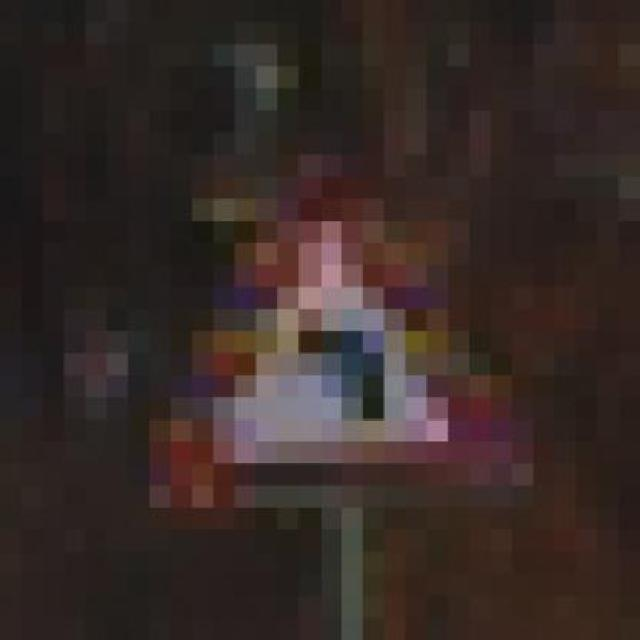Dangerous Left Curve Ahead: (106, 132, 512, 508)
